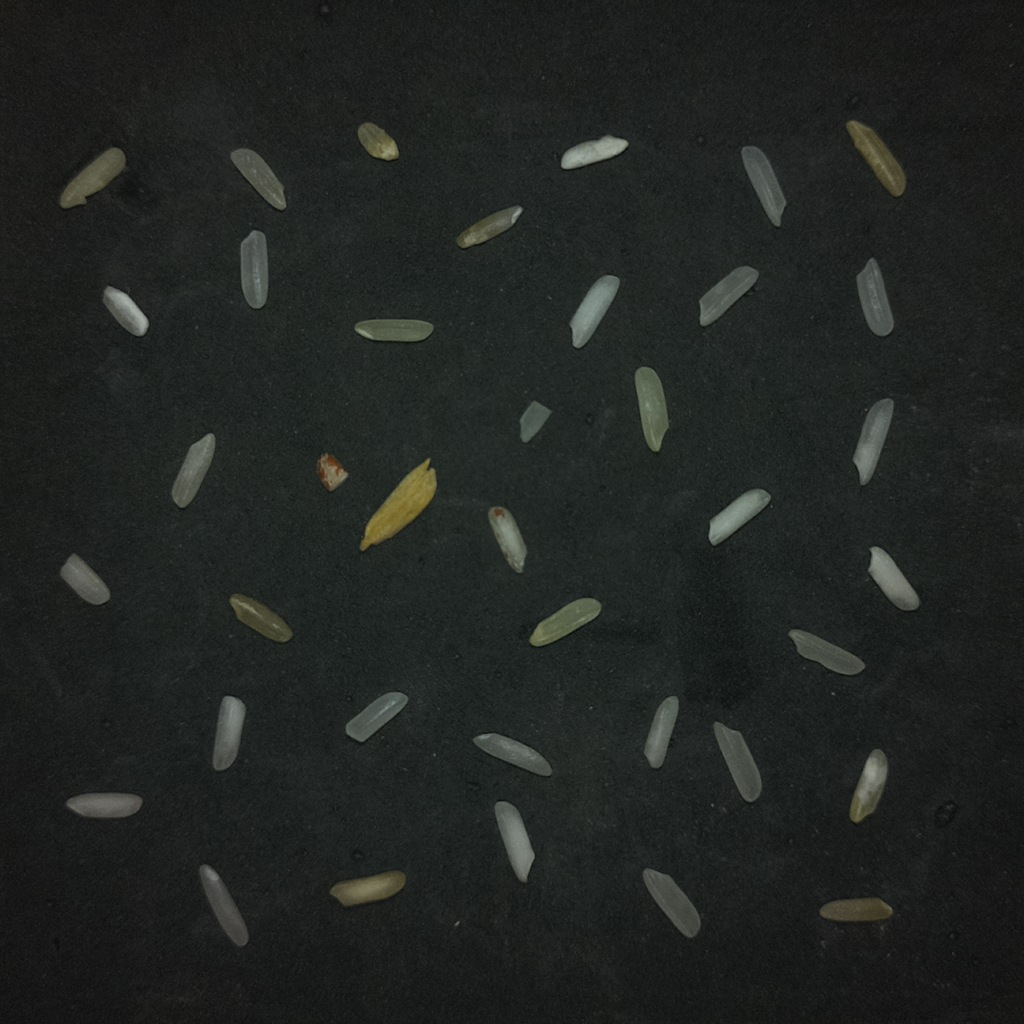broken: (699, 266, 758, 326), (346, 691, 407, 742), (60, 553, 109, 605), (212, 695, 245, 770), (644, 696, 678, 768), (489, 507, 526, 572), (65, 792, 142, 818), (519, 401, 550, 442)
chalky: (570, 274, 619, 348), (708, 488, 770, 545), (869, 546, 919, 610), (495, 801, 534, 883), (102, 286, 148, 336), (560, 134, 627, 168)
discolored: (846, 120, 905, 196), (529, 598, 601, 646), (229, 594, 292, 642), (456, 206, 523, 249), (330, 870, 405, 906), (850, 750, 887, 822), (354, 319, 433, 342), (819, 897, 892, 921), (357, 122, 398, 160)
paddy: (360, 458, 436, 550)
red: (316, 453, 348, 491)
whole: (58, 147, 125, 208), (199, 864, 248, 946), (642, 868, 700, 937), (714, 721, 761, 801), (741, 146, 785, 227), (788, 629, 864, 675), (853, 398, 893, 485), (230, 148, 285, 209), (473, 733, 551, 776), (171, 432, 215, 508), (634, 366, 668, 452), (856, 258, 893, 336), (240, 230, 268, 308)
